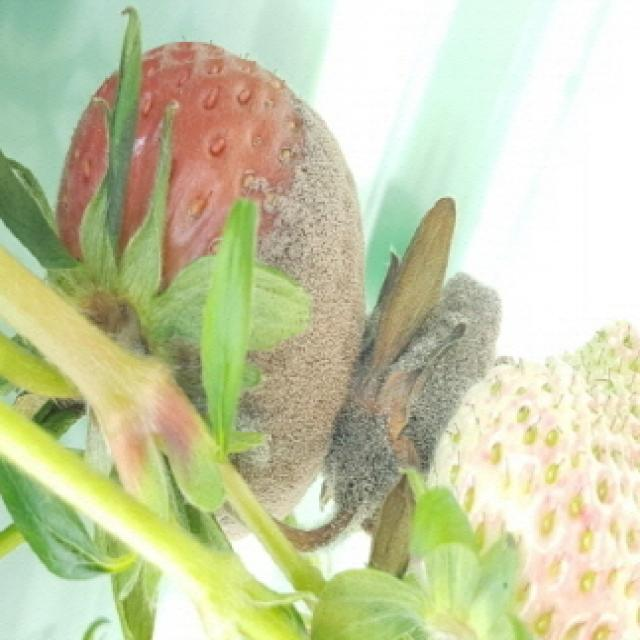Gray Mold: (166, 78, 367, 543), (303, 271, 507, 552)
